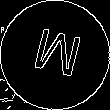M_S: (26, 25, 84, 85)
